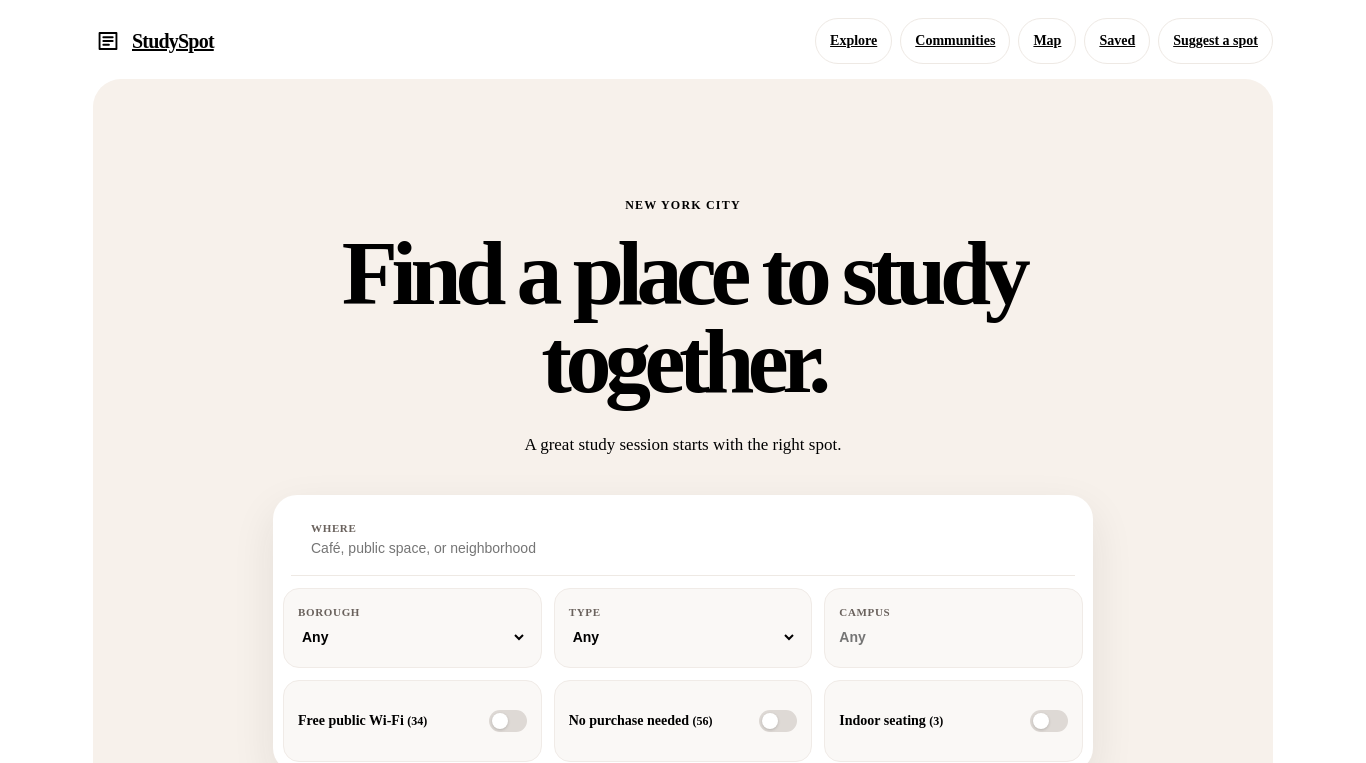
Test: the place card › copies a link to the spot when sharing
Type "library" into the field labelled "Where". click: (625, 548)
box: [311,539,939,558]
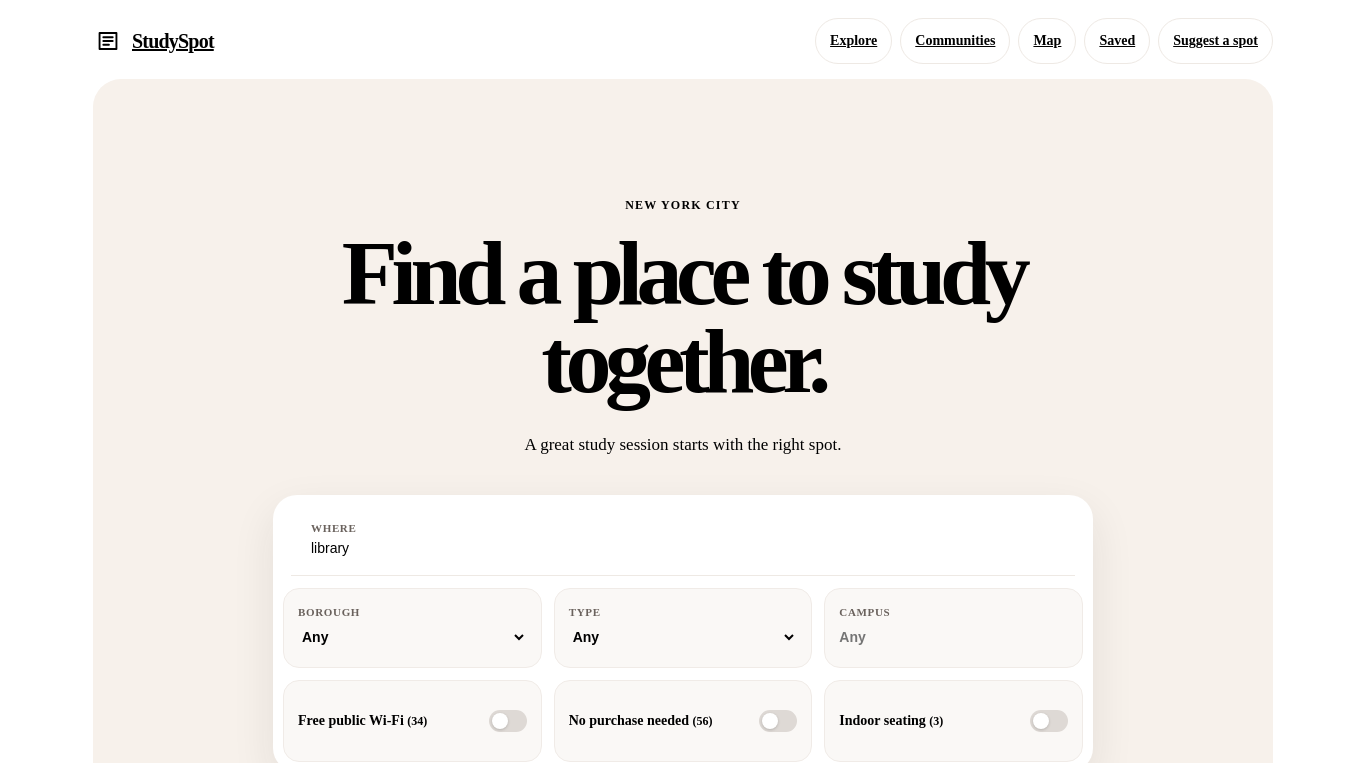
Click the button "Search". click: (1025, 540)
box: [959,513,1091,567]
(page scrolled)
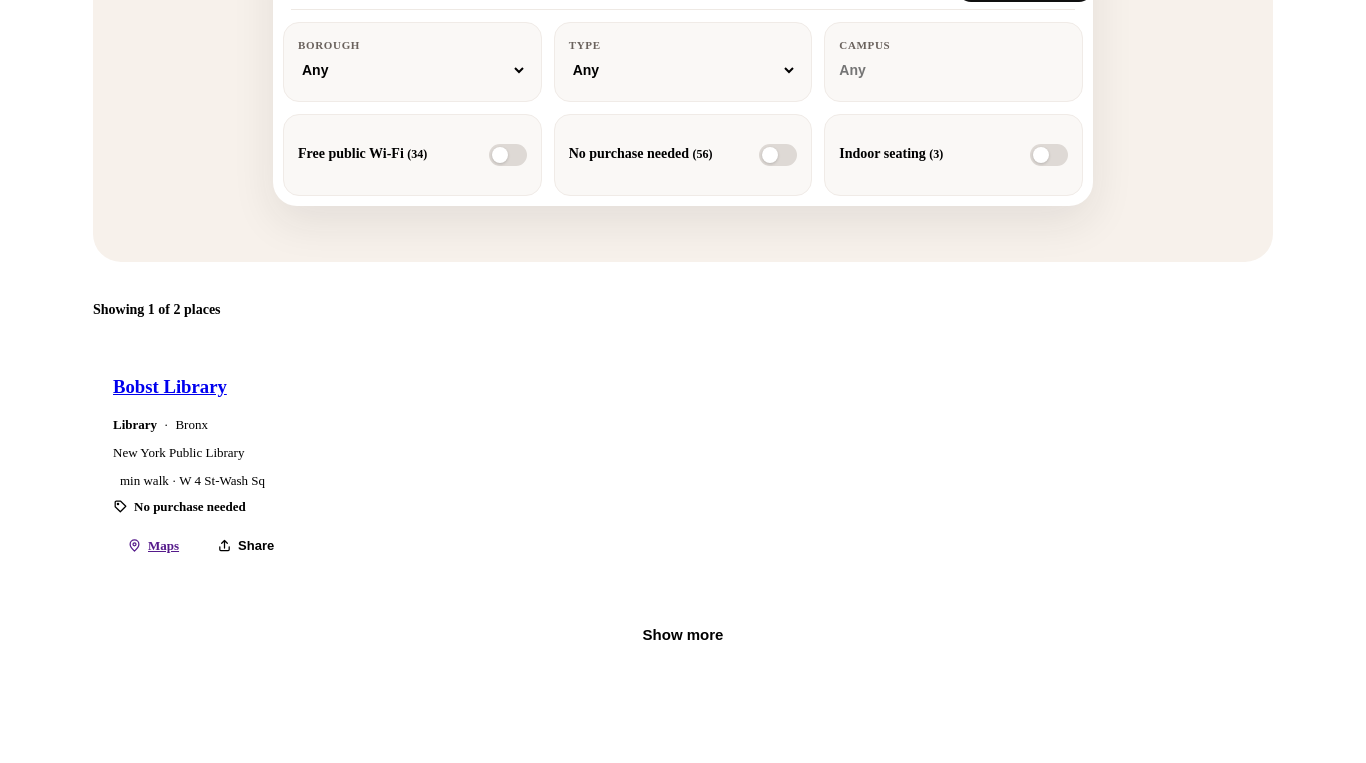
Check: the link "Bobst Library" is shown, box [113,376,227,397]
Click the button "Share". click: (246, 546)
box: [203,529,288,563]
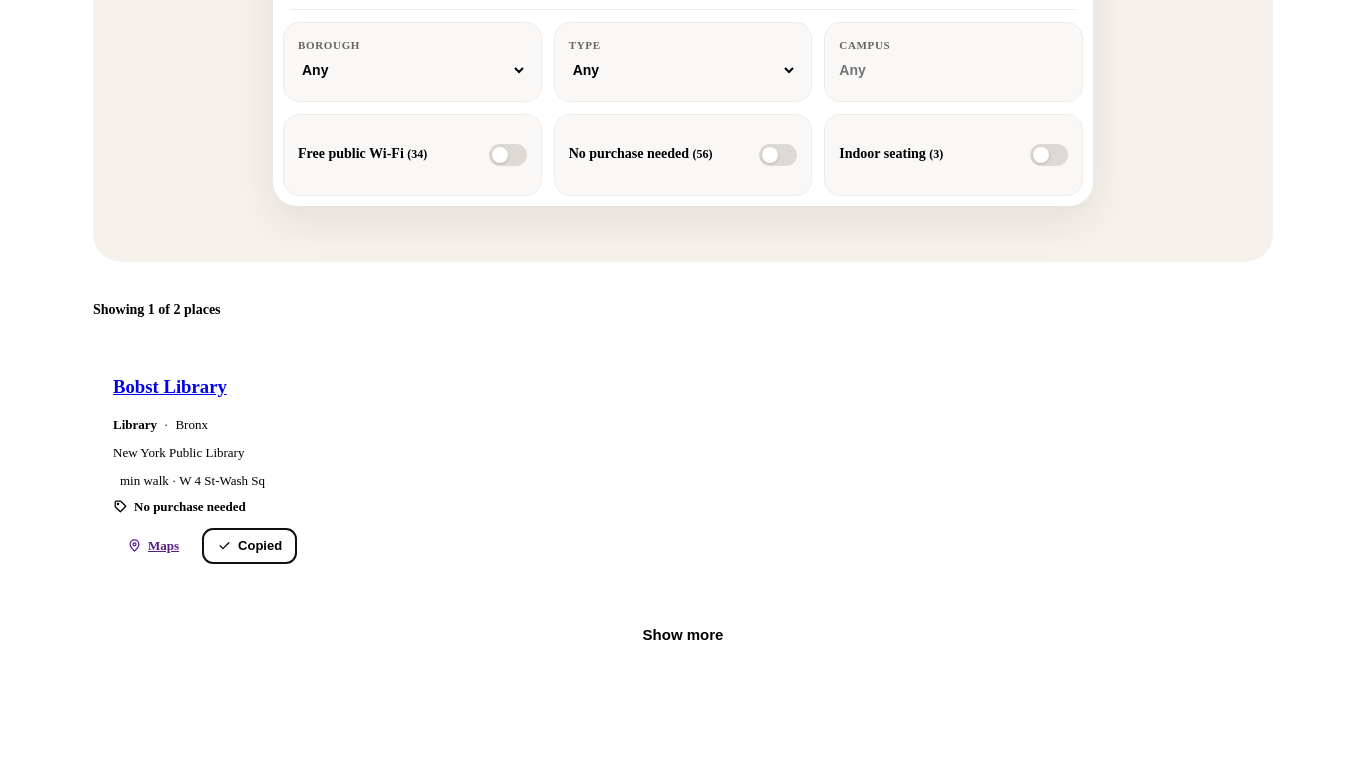
Check: the button "Copied" is shown, box [203,529,296,563]
